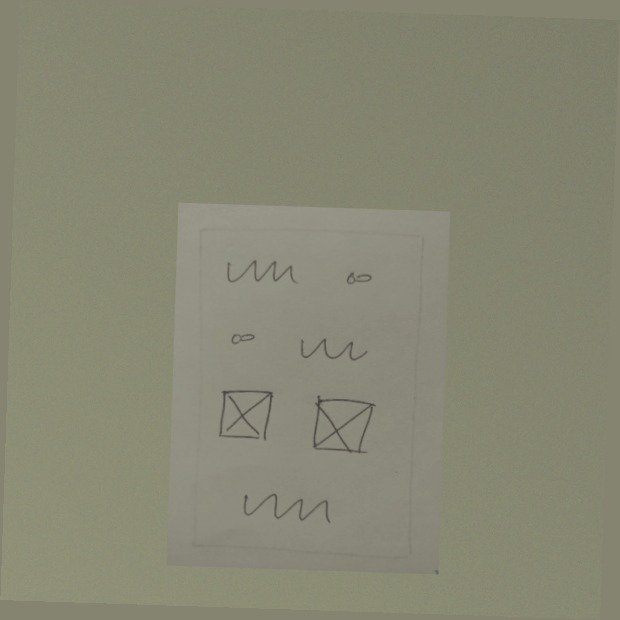image: (307, 393, 381, 459), (215, 384, 276, 445)
switch: (336, 265, 382, 293), (227, 324, 262, 353)
text: (236, 483, 334, 532), (222, 253, 307, 289), (295, 330, 371, 367)
